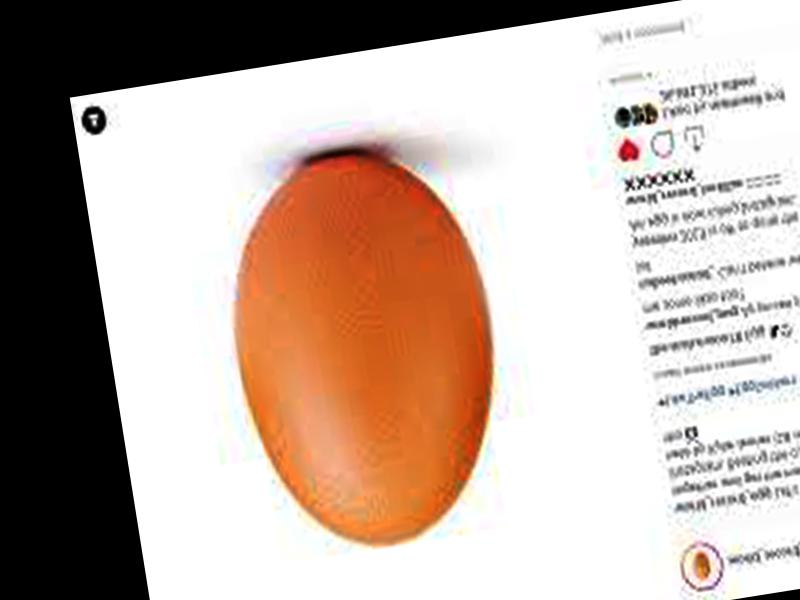Eggs: (210, 139, 521, 561)
